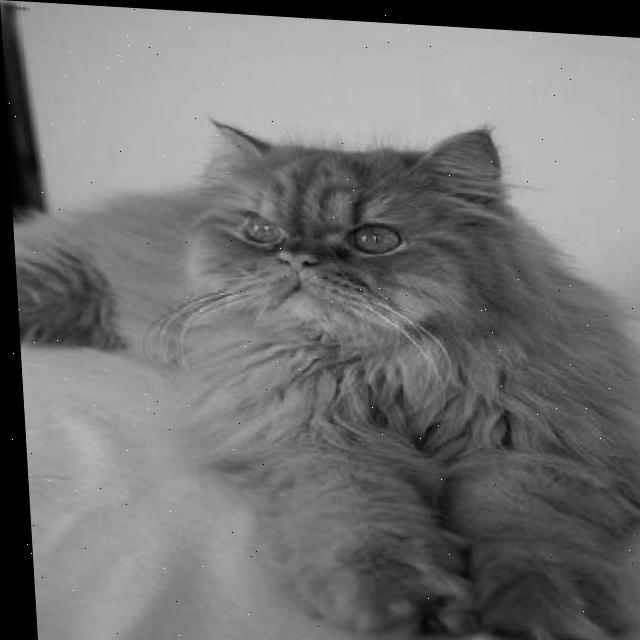Cat: (6, 100, 640, 640)
